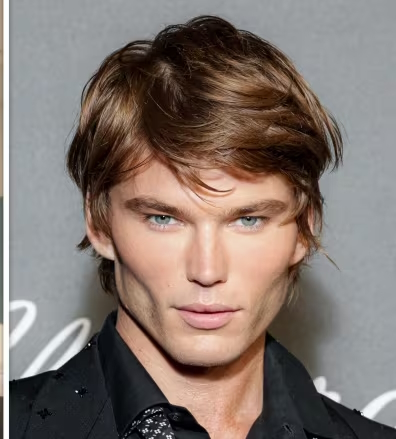mewing: (95, 119, 314, 363)
